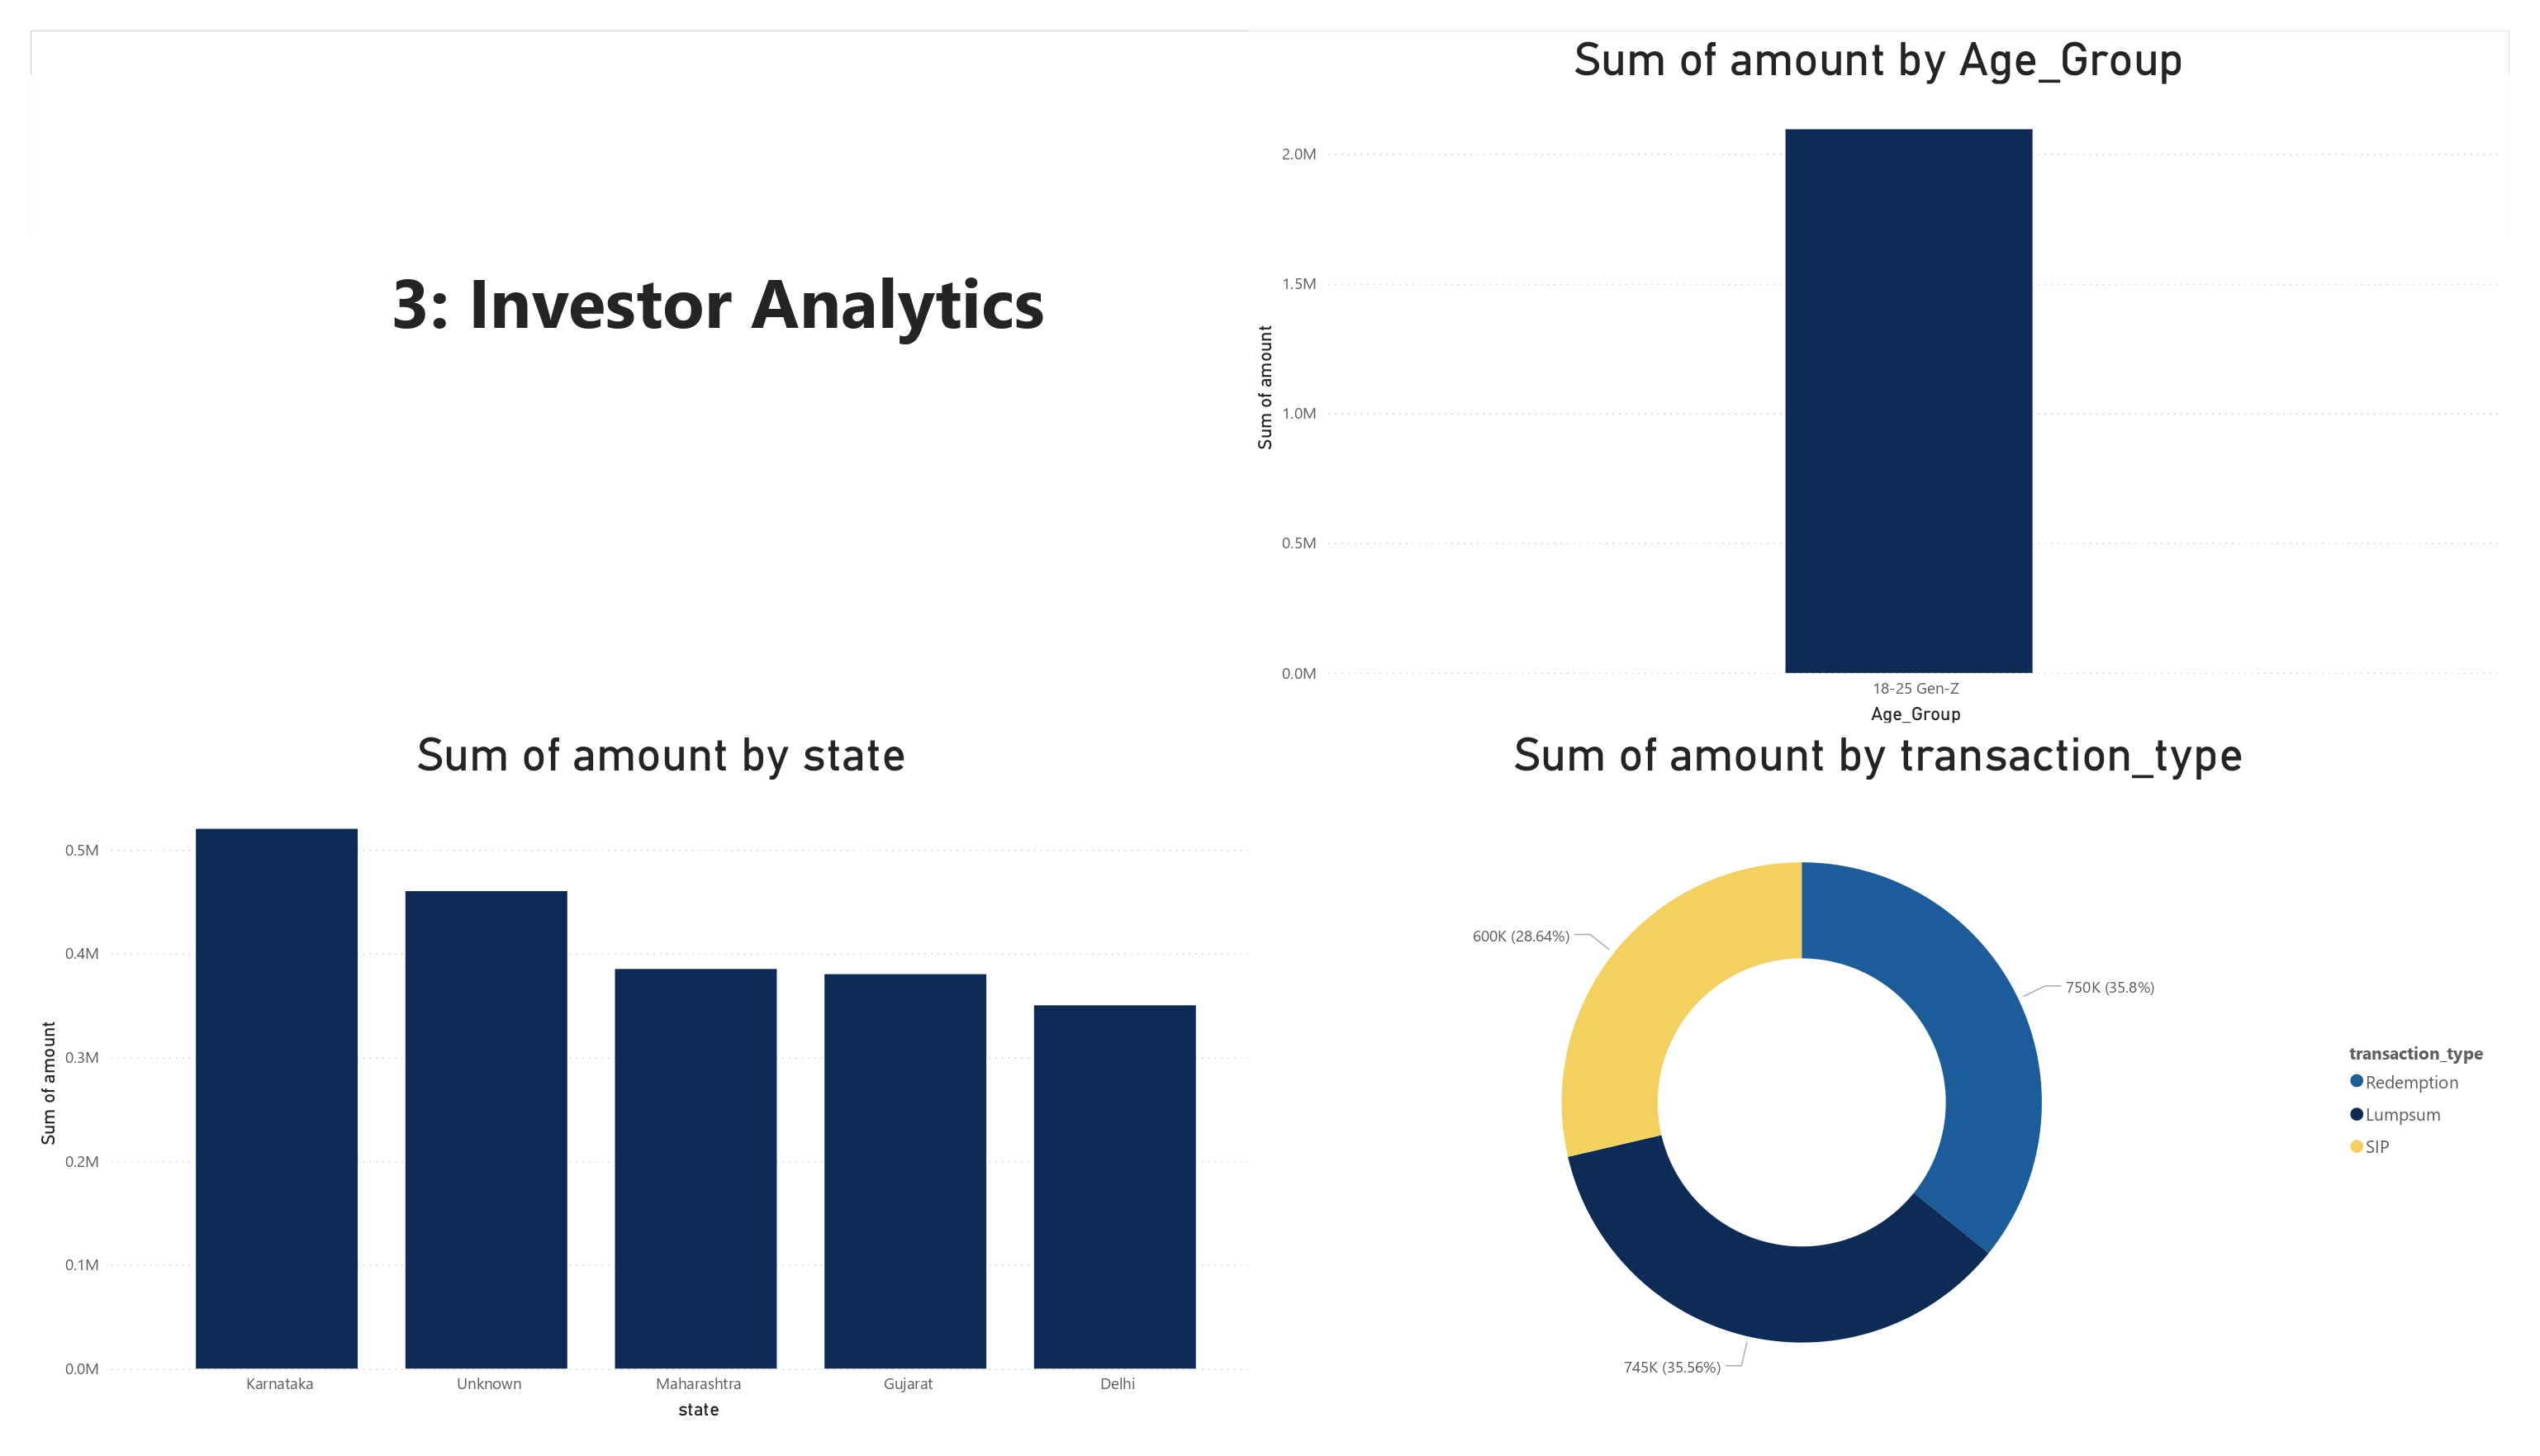

What the dashboard file says about the page in this screenshot:
{"tool":"powerbi","page":{"name":"Page 3: Investor Analytics","canvas":[1920,1080],"ordinal":2},"visuals":[{"type":"clusteredColumnChart","fields":{"Category":["fact_transactions.state"],"Y":["Sum(fact_transactions.amount)"]},"box":[0,538.9,977.4,541.3],"z":0},{"type":"donutChart","fields":{"Category":["fact_transactions.transaction_type"],"Y":["Sum(fact_transactions.amount)"]},"box":[943.1,538.9,977.4,541.3],"z":1000},{"type":"clusteredColumnChart","fields":{"Category":["fact_transactions.Age_Group"],"Y":["Sum(fact_transactions.amount)"]},"box":[943.1,0,977.4,541.3],"z":2000},{"type":"textbox","box":[274.3,166.6,541.3,105.3],"z":3000}]}

Visuals, with their boxes on the page's 1920x1080 design canvas (x1, y1, x2, y2). These are canvas units, not pixel positions in the 2540x1456 screenshot, which may show the page scaled, cropped or inside an application window:
clusteredColumnChart - fact_transactions.state x Sum(fact_transactions.amount): Rect(0, 539, 977, 1080)
donutChart - fact_transactions.transaction_type x Sum(fact_transactions.amount): Rect(943, 539, 1920, 1080)
clusteredColumnChart - fact_transactions.Age_Group x Sum(fact_transactions.amount): Rect(943, 0, 1920, 541)
textbox: Rect(274, 167, 816, 272)
